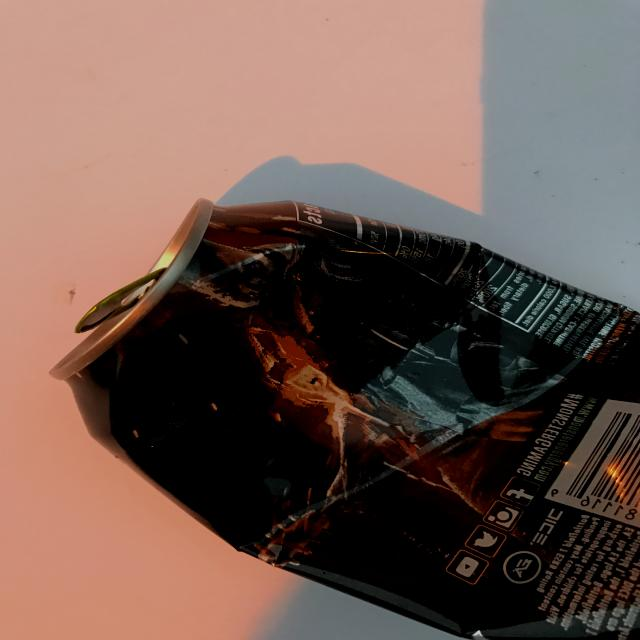Metal: (44, 179, 640, 640)
